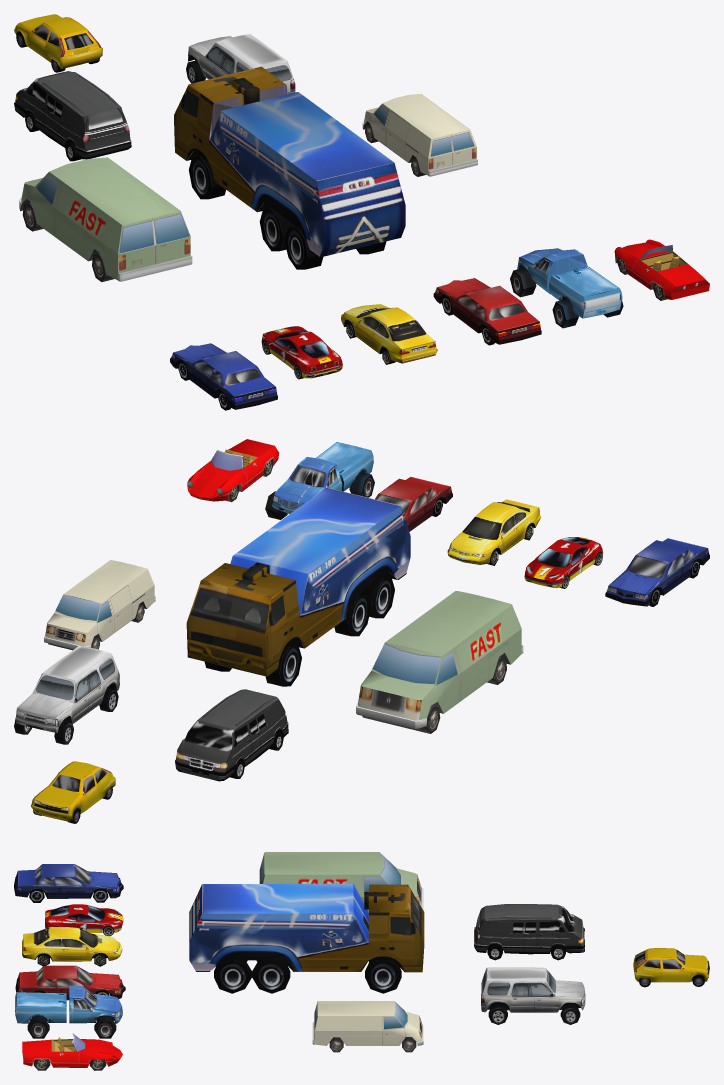
Rendered from cars.glb.
The picture shows the model from 3 angles, top to bottom: view 1: azimuth 30°, elevation 25°; view 2: azimuth 150°, elevation 25°; view 3: azimuth 270°, elevation 25°; orthographic projection. The views are drawn at different scales.
Visible parts, largest first — view 1: Camion, AutoParcC02, FurgoneCPU, AutoParcC01, AutoParcF01, AutoParcE03, AutoParcE01, AutoParcD01, JeepCPU01, AutoParcB01, AutoPlayer, AutoParcA01; view 2: Camion, AutoParcC02, FurgoneCPU, AutoParcC01, JeepCPU01, AutoParcF01, AutoParcE03, AutoParcD01, AutoParcB01, AutoPlayer, AutoParcA01, AutoParcE01; view 3: Camion, FurgoneCPU, AutoParcC02, AutoParcC01, JeepCPU01, AutoParcF01, AutoParcE03, AutoParcD01, AutoParcB01, AutoParcE01, AutoPlayer, AutoParcA01.
Part boxes in pixels (x1,y1,x2,y2): Camion: [174, 66, 405, 269]; AutoParcC02: [19, 157, 192, 281]; FurgoneCPU: [14, 71, 131, 161]; AutoParcC01: [362, 93, 477, 176]; AutoParcF01: [510, 248, 623, 328]; AutoParcE03: [170, 343, 277, 410]; AutoParcE01: [433, 278, 541, 345]; AutoParcD01: [341, 304, 437, 364]; JeepCPU01: [186, 34, 295, 94]; AutoParcB01: [614, 239, 709, 300]; AutoPlayer: [14, 14, 102, 72]; AutoParcA01: [261, 326, 342, 379]; Camion: [186, 487, 410, 686]; AutoParcC02: [356, 591, 523, 733]; FurgoneCPU: [175, 689, 288, 781]; AutoParcC01: [44, 560, 155, 650]; JeepCPU01: [14, 646, 119, 744]; AutoParcF01: [265, 442, 374, 519]; AutoParcE03: [605, 538, 709, 606]; AutoParcD01: [447, 499, 540, 565]; AutoParcB01: [187, 439, 279, 502]; AutoPlayer: [31, 761, 115, 823]; AutoParcA01: [524, 537, 603, 588]; AutoParcE01: [375, 477, 452, 531]; Camion: [189, 883, 424, 993]; FurgoneCPU: [474, 904, 584, 960]; AutoParcC02: [259, 852, 423, 911]; AutoParcC01: [312, 1001, 423, 1052]; JeepCPU01: [481, 967, 585, 1024]; AutoParcF01: [15, 985, 122, 1038]; AutoParcE03: [14, 864, 123, 902]; AutoParcD01: [22, 927, 122, 966]; AutoParcB01: [22, 1033, 122, 1070]; AutoParcE01: [15, 965, 125, 1000]; AutoPlayer: [633, 948, 709, 987]; AutoParcA01: [45, 904, 123, 936].
Bounding box in the file's own units: 2.18 × 0.4662 × 3.47.
Materials: 16 (13 with a texture image).
